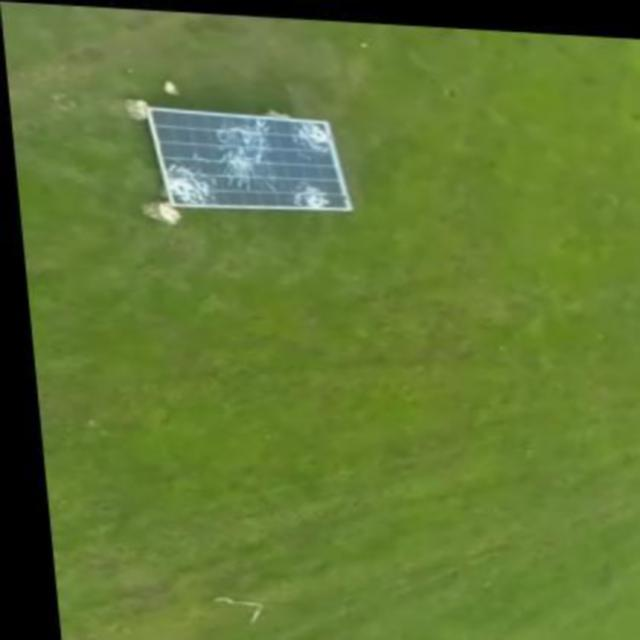cracked: (148, 108, 352, 209)
